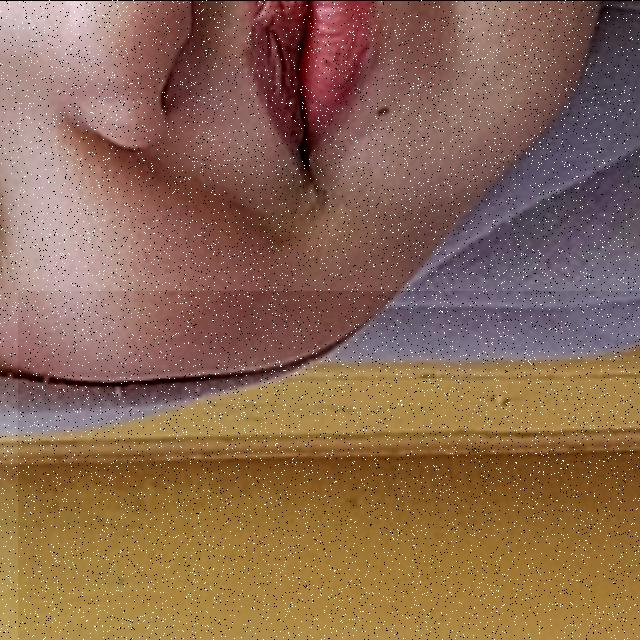baik: (18, 290, 640, 640)
